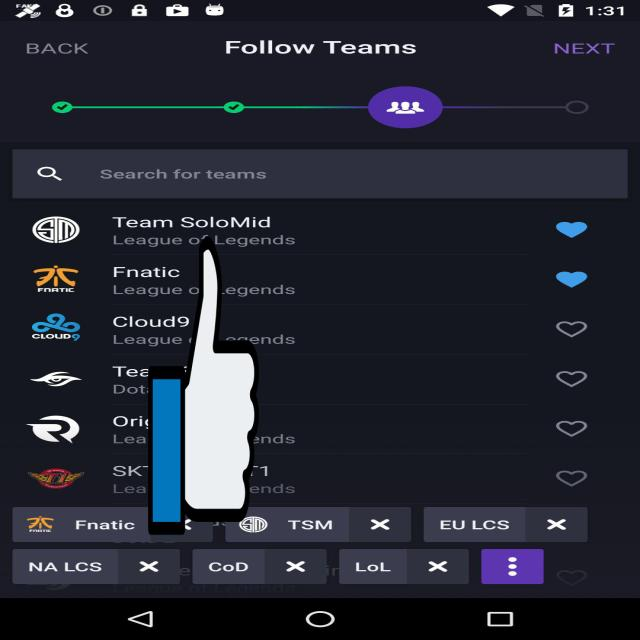privacy zuckering: (148, 230, 259, 541)
